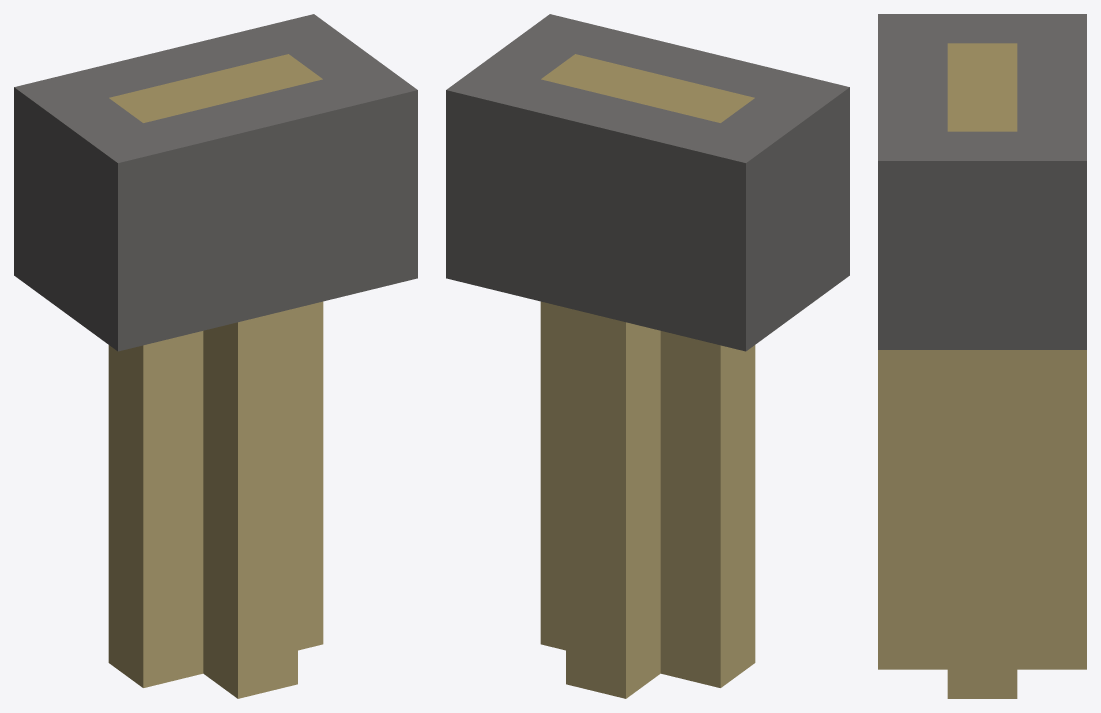
Rendered from piston_c.glb.
The picture shows the model from 3 angles, left to right: view 1: azimuth 30°, elevation 25°; view 2: azimuth 150°, elevation 25°; view 3: azimuth 270°, elevation 25°; orthographic projection.
Size of the model in its own units: 5 by 9 by 3.
